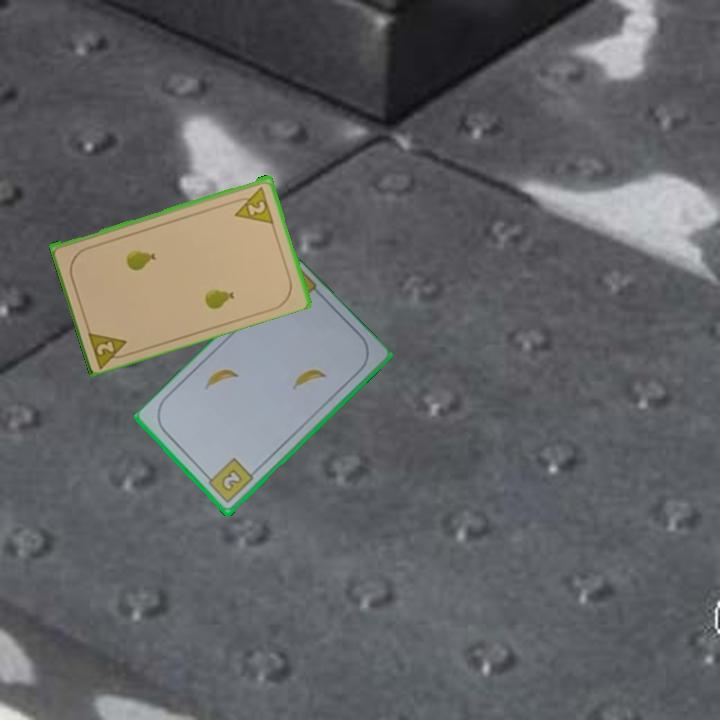2b: (202, 455, 256, 506)
2p: (84, 326, 135, 369), (228, 183, 276, 226)
